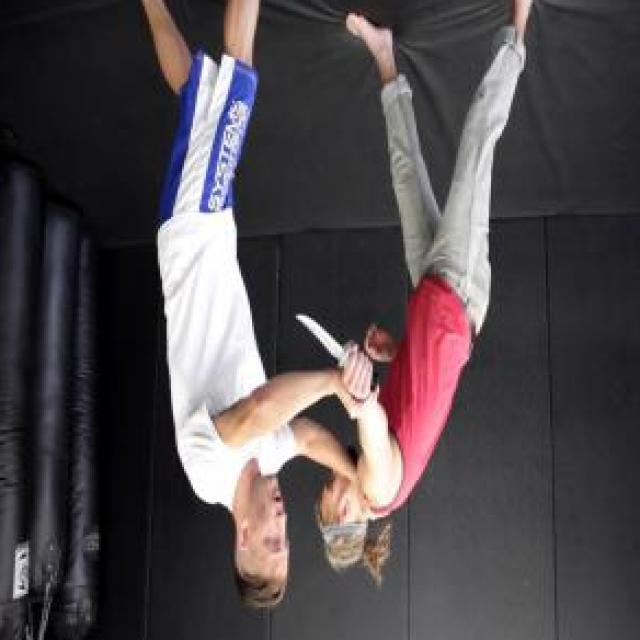knife: (292, 302, 382, 392)
